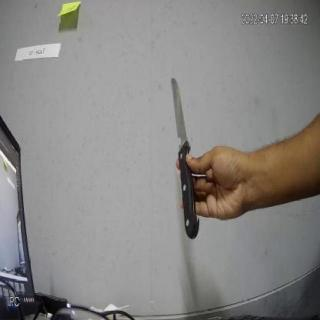knife: (170, 74, 203, 238)
